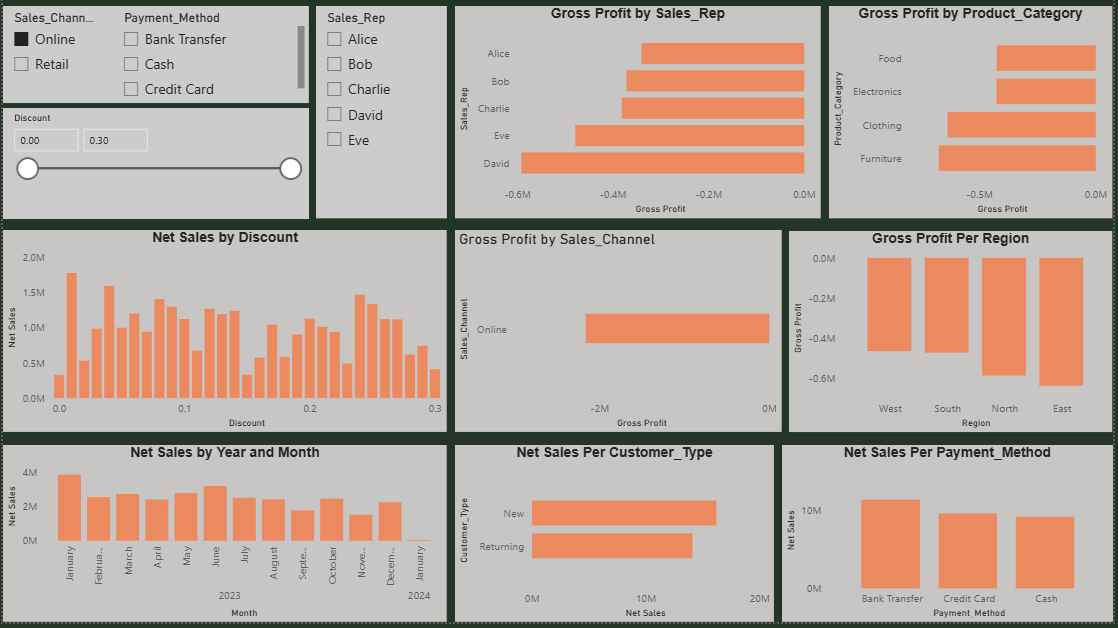

This screenshot's page, from the dashboard's own definition file:
{"tool":"powerbi","page":{"name":"Page 2","canvas":[1280,720],"ordinal":1},"visuals":[{"type":"clusteredBarChart","fields":{"Category":["sales_data_Project2.Sales_Channel"],"Y":["Sum(sales_data_Project2.Calculated Gross Profit)"]},"box":[521.7,267.4,376.8,232.9],"z":0},{"type":"clusteredBarChart","title":" Net Sales Per Customer_Type","fields":{"Y":["Sum(sales_data_Project2.Calculated Net Sales)"],"Category":["sales_data_Project2.Customer_Type"]},"box":[521.7,515.8,368.4,204.4],"z":1000},{"type":"clusteredBarChart","fields":{"Y":["Sum(sales_data_Project2.Calculated Gross Profit)"],"Category":["sales_data_Project2.Sales_Rep"]},"box":[521.7,9.5,421.9,244.8],"z":2000},{"type":"clusteredColumnChart","title":" Net Sales Per Payment_Method","fields":{"Y":["Sum(sales_data_Project2.Calculated Net Sales)"],"Category":["sales_data_Project2.Payment_Method"]},"box":[898.5,515.8,381.5,204.4],"z":3000},{"type":"clusteredBarChart","fields":{"Y":["Sum(sales_data_Project2.Calculated Gross Profit)"],"Category":["sales_data_Project2.Product_Category"]},"box":[953.2,9.5,326.8,244.8],"z":4000},{"type":"clusteredColumnChart","title":" Gross Profit Per Region","fields":{"Category":["sales_data_Project2.Region"],"Y":["Sum(sales_data_Project2.Calculated Gross Profit)"]},"box":[906.8,268.6,373.2,231.8],"z":5000},{"type":"clusteredColumnChart","fields":{"Y":["Sum(sales_data_Project2.Calculated Net Sales)"],"Category":["sales_data_Project2.Discount"]},"box":[0,267.4,512.2,232.9],"z":6000},{"type":"clusteredColumnChart","fields":{"Y":["Sum(sales_data_Project2.Calculated Net Sales)"],"Category":["sales_data_Project2.Sale_Date.Variation.Date Hierarchy.Year","sales_data_Project2.Sale_Date.Variation.Date Hierarchy.Month"]},"box":[0,515.8,512.2,204.4],"z":7000},{"type":"slicer","fields":{"Values":["sales_data_Project2.Sales_Rep"]},"box":[361.3,9.5,150.9,244.8],"z":8000},{"type":"slicer","fields":{"Values":["sales_data_Project2.Sales_Channel"]},"box":[0,9.2,126.9,111.9],"z":9000},{"type":"slicer","fields":{"Values":["sales_data_Project2.Payment_Method"]},"box":[127.2,9.5,225.8,111.7],"z":10000},{"type":"slicer","fields":{"Values":["sales_data_Project2.Discount"]},"box":[0,127.2,353,127.2],"z":11000}]}

Visuals, with their boxes in screenshot pixels (x1, y1, x2, y2), scaled from the page's 1280x720 canvas onto the 1118x628 screenshot:
clusteredBarChart - sales_data_Project2.Sales_Channel x Sum(sales_data_Project2.Calculated Gross Profit): (456, 233, 785, 436)
" Net Sales Per Customer_Type" clusteredBarChart: (456, 450, 777, 627)
clusteredBarChart - Sum(sales_data_Project2.Calculated Gross Profit) x sales_data_Project2.Sales_Rep: (456, 8, 824, 222)
" Net Sales Per Payment_Method" clusteredColumnChart: (785, 450, 1117, 627)
clusteredBarChart - Sum(sales_data_Project2.Calculated Gross Profit) x sales_data_Project2.Product_Category: (833, 8, 1117, 222)
" Gross Profit Per Region" clusteredColumnChart: (792, 234, 1117, 436)
clusteredColumnChart - Sum(sales_data_Project2.Calculated Net Sales) x sales_data_Project2.Discount: (0, 233, 447, 436)
clusteredColumnChart - Sum(sales_data_Project2.Calculated Net Sales) x sales_data_Project2.Sale_Date.Variation.Date Hierarchy.Year: (0, 450, 447, 627)
slicer - sales_data_Project2.Sales_Rep: (316, 8, 447, 222)
slicer - sales_data_Project2.Sales_Channel: (0, 8, 111, 106)
slicer - sales_data_Project2.Payment_Method: (111, 8, 308, 106)
slicer - sales_data_Project2.Discount: (0, 111, 308, 222)
